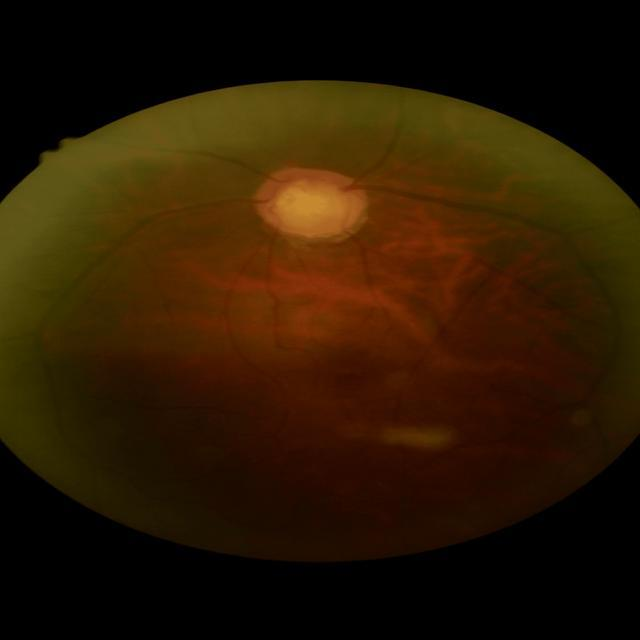cup: (268, 176, 350, 224)
disk: (254, 164, 368, 234)
